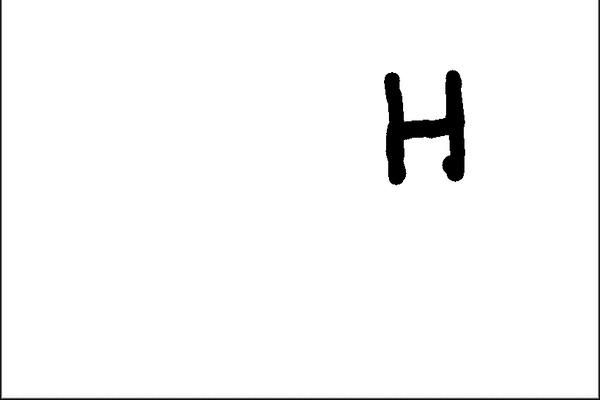H: (378, 65, 471, 190)
